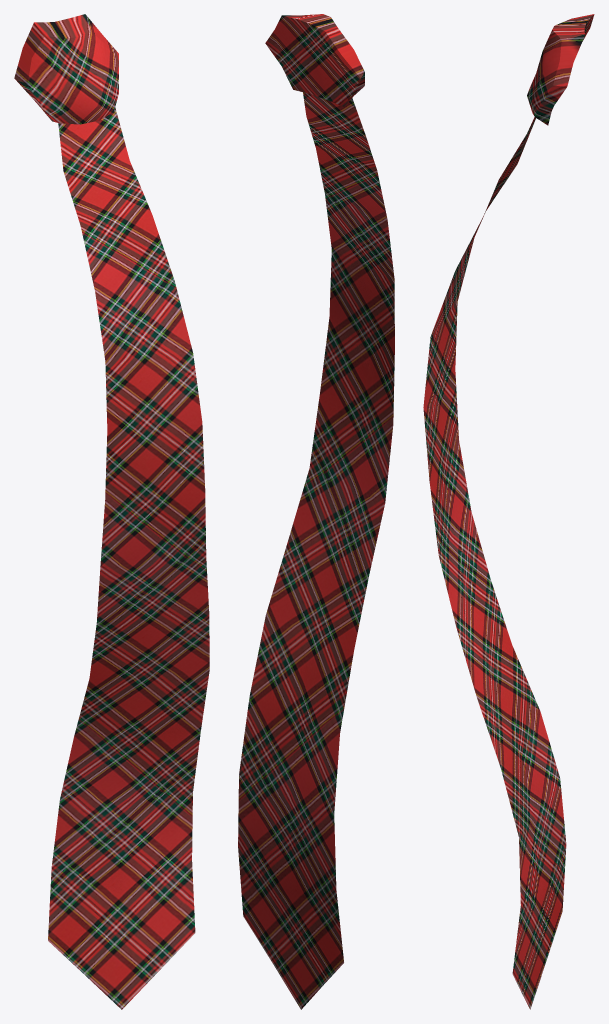
File: Pose-1_SuitTie-1.fbx
3 renders of one model, left to right at view 1: azimuth 30°, elevation 25°; view 2: azimuth 150°, elevation 25°; view 3: azimuth 270°, elevation 25°, orthographic. The views are drawn at different scales.
Visible parts, largest first — view 1: Pose-1_SuitTie-1; view 2: Pose-1_SuitTie-1; view 3: Pose-1_SuitTie-1.
Boxes of the visible parts, left/top/right/bottom form: Pose-1_SuitTie-1: left=14, top=14, right=209, bottom=1009; Pose-1_SuitTie-1: left=238, top=14, right=394, bottom=1009; Pose-1_SuitTie-1: left=423, top=14, right=594, bottom=1009.
Size of the model in its own units: 7.97 by 50.39 by 8.06.
